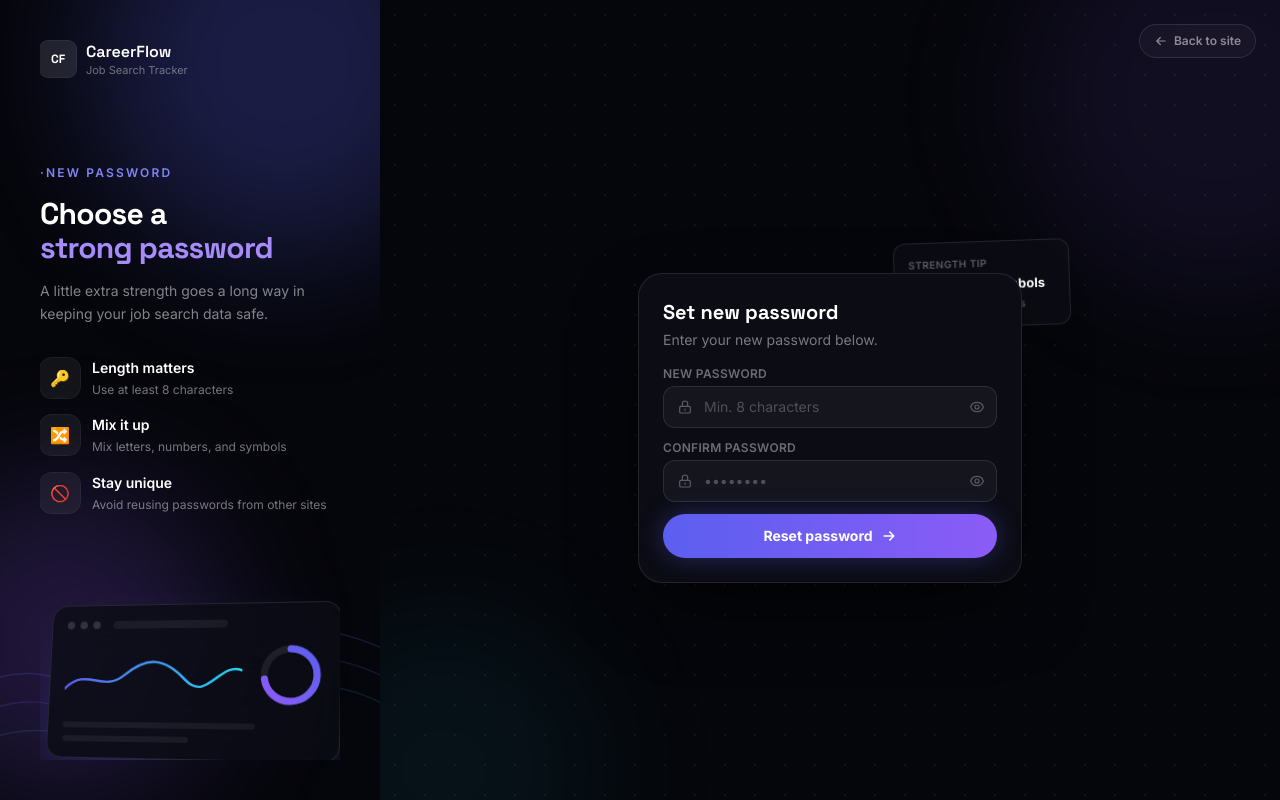
Test: ResetPassword › shows per-field errors from the server
This screenshot has width=1280, height=800.
Type "newpass123" into the password field with placeholder "Min. 8 characters".
click(830, 407); type("newpass123")  # box 663,386 -> 997,428
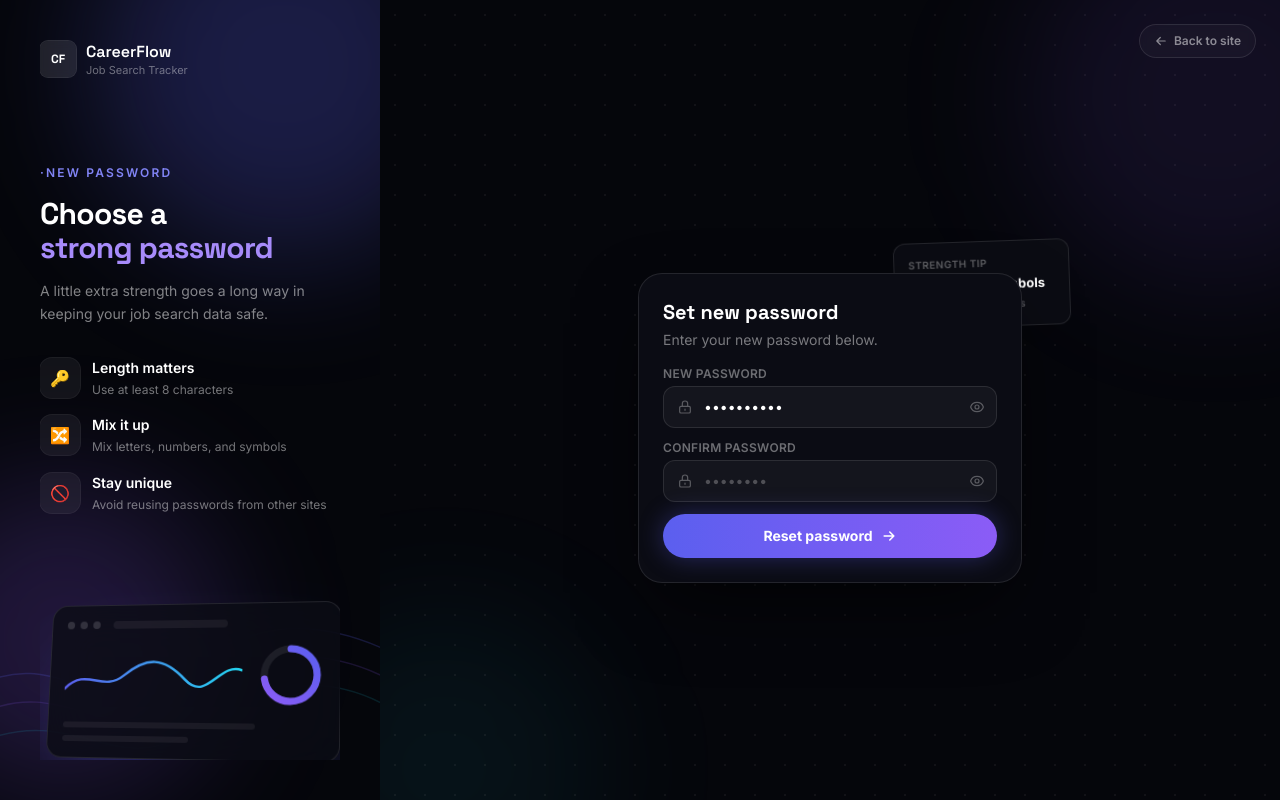
Type "newpass123" into the password field with placeholder "••••••••".
click(830, 481); type("newpass123")  # box 663,460 -> 997,502
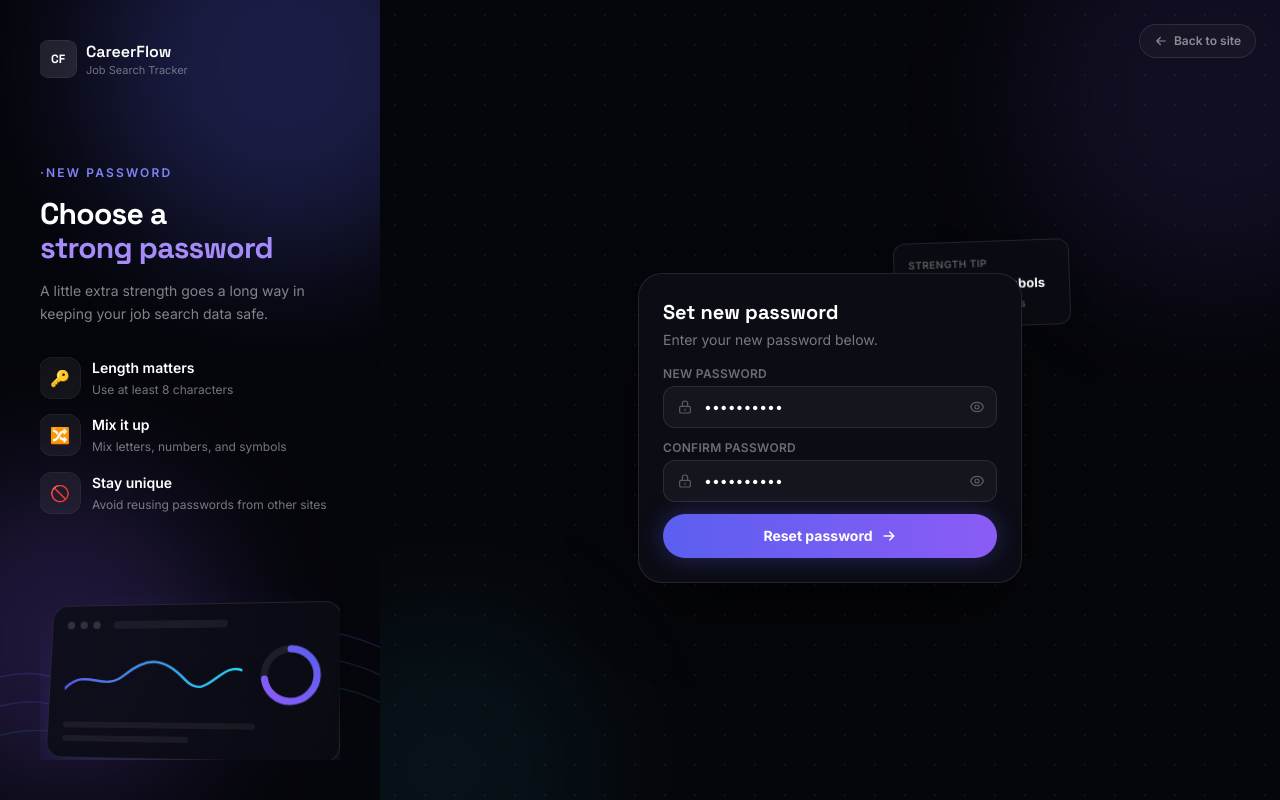
Click the button "Reset password".
click(830, 536)  # box 663,514 -> 997,558
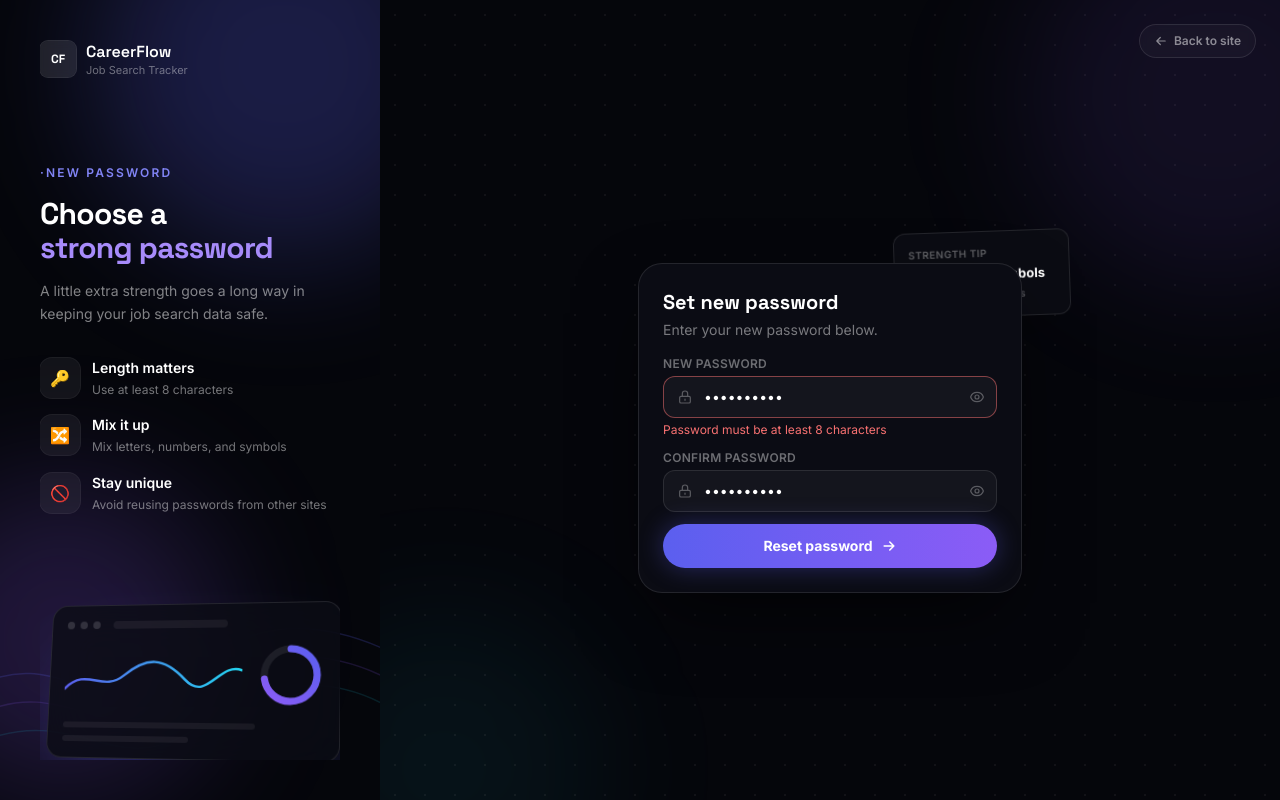
Now the text "Password must be at least 8 characters" is shown, box 663,422 -> 887,437
